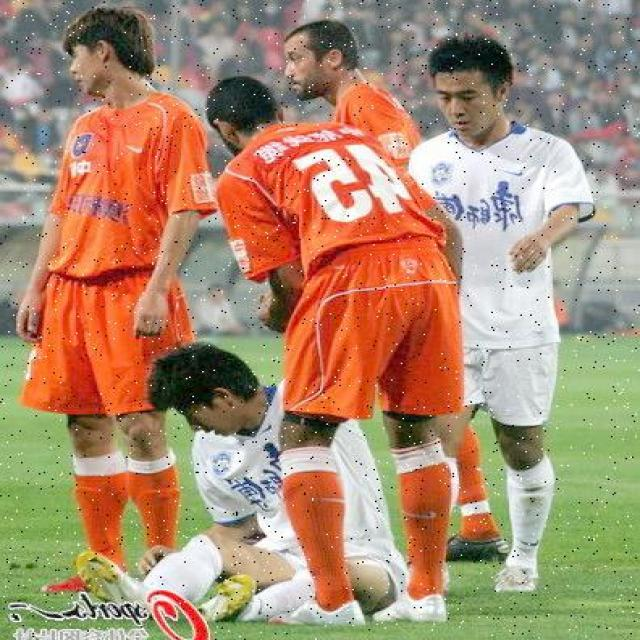fall: (98, 342, 360, 615)
